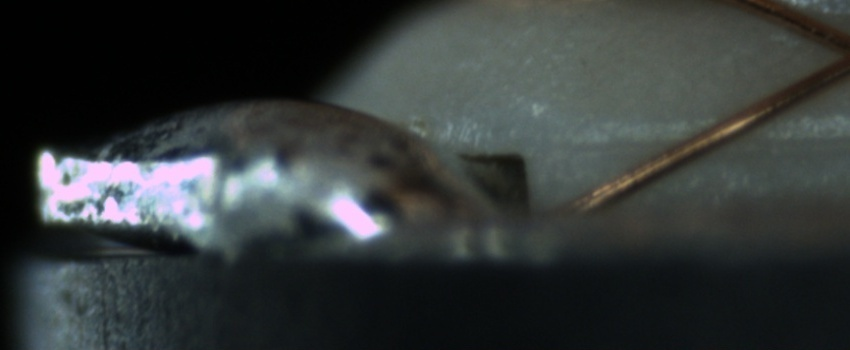CL: (805, 15, 850, 86)
DL: (567, 108, 844, 172)
